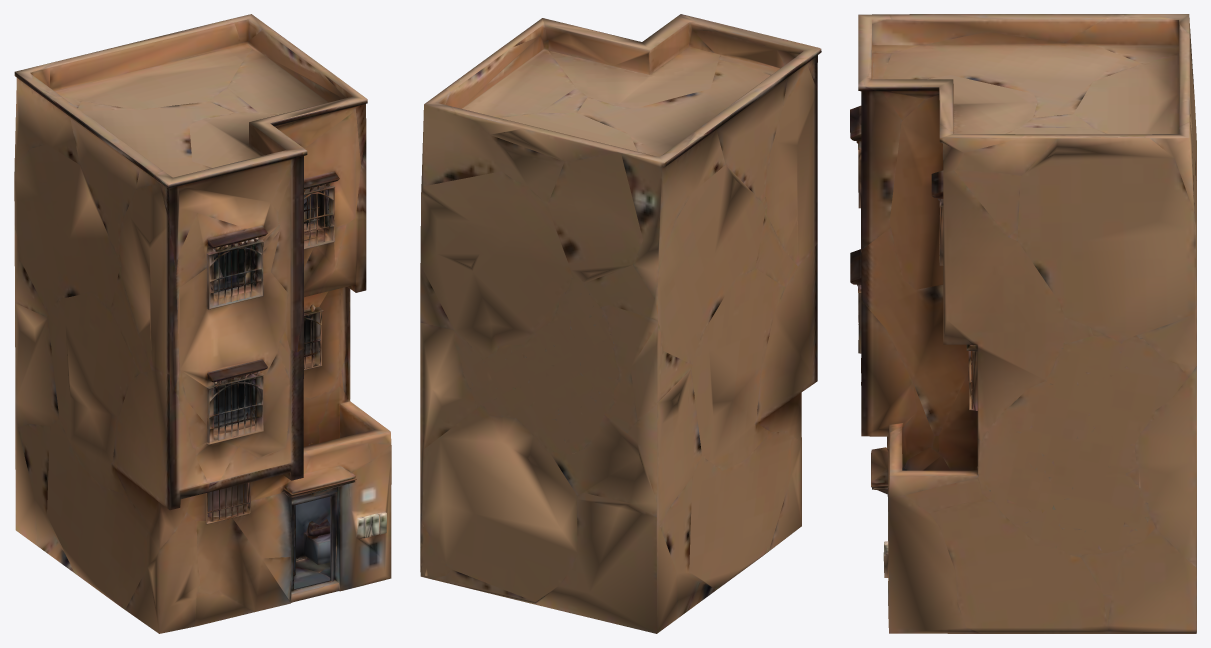
The model's file is house_04.glb.
3 renders of one model, left to right at view 1: azimuth 30°, elevation 25°; view 2: azimuth 150°, elevation 25°; view 3: azimuth 270°, elevation 25°, orthographic. The views are drawn at different scales.
Parts seen in each view (by area): view 1: node_0; view 2: node_0; view 3: node_0.
Part boxes in pixels (left/top/right/bottom): node_0: left=14, top=14, right=391, bottom=633; node_0: left=420, top=14, right=821, bottom=633; node_0: left=850, top=14, right=1196, bottom=633.
Size of the model in its own units: 0.4987 by 0.9291 by 0.5883.
1 material, 1 textured.
